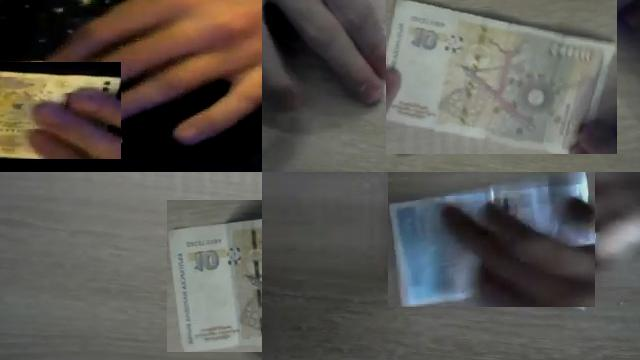10leva: (386, 0, 617, 154), (167, 212, 262, 352), (0, 68, 121, 159)
20leva: (388, 172, 595, 307)
